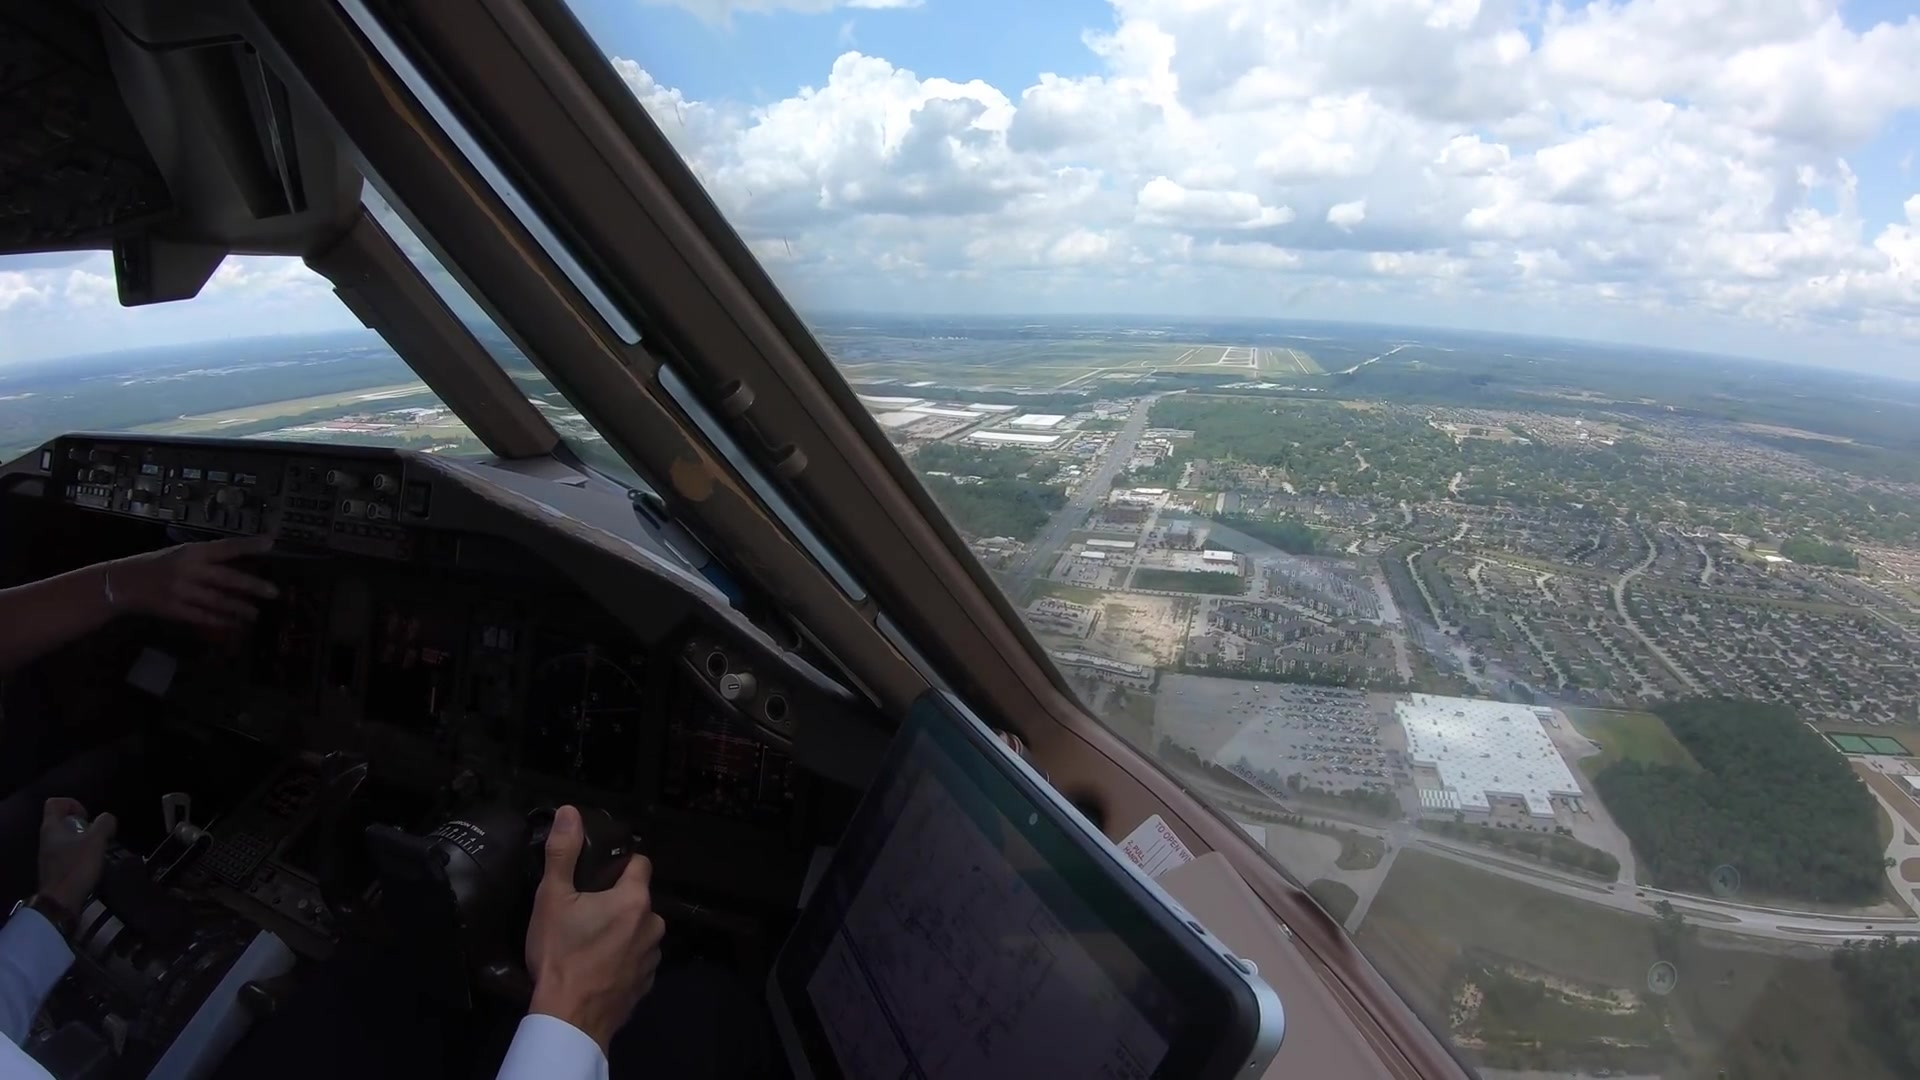runway: (1247, 347, 1259, 368)
